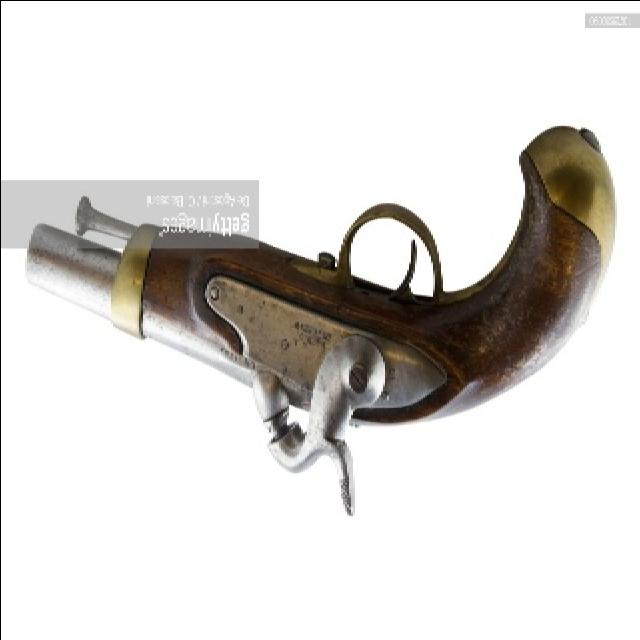handgun: (25, 135, 625, 519)
